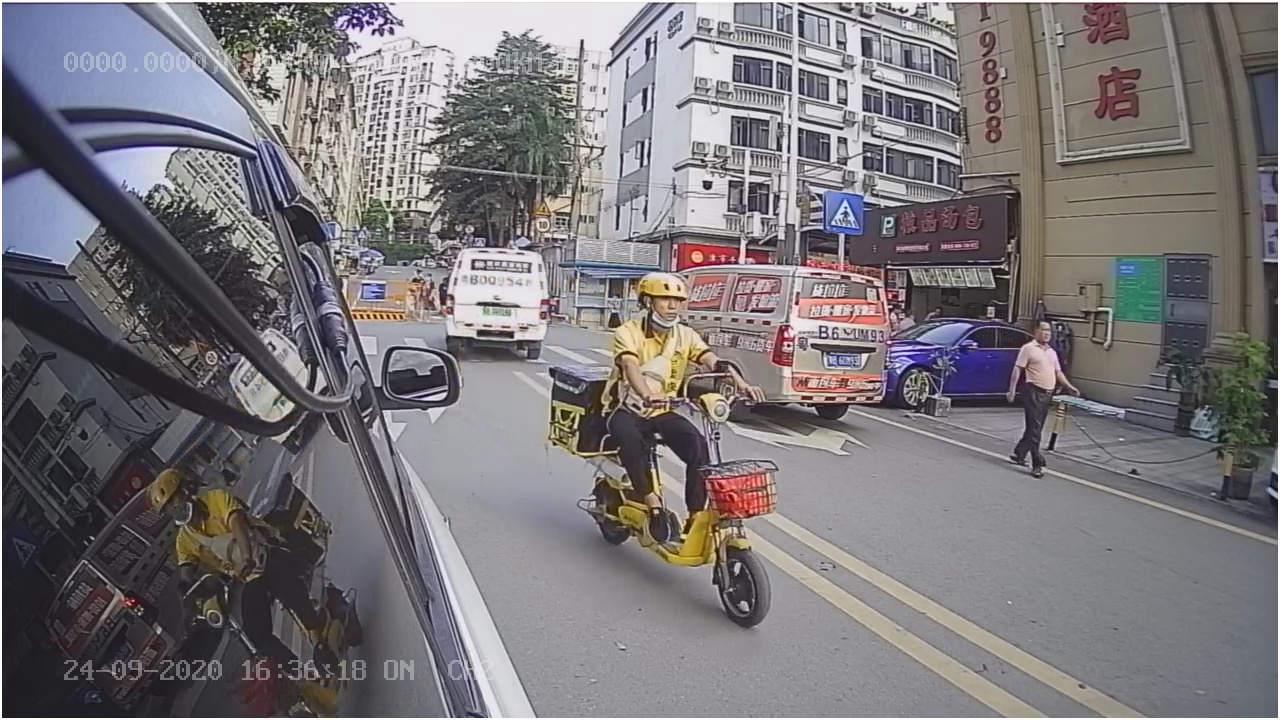person: (988, 319, 1087, 488)
